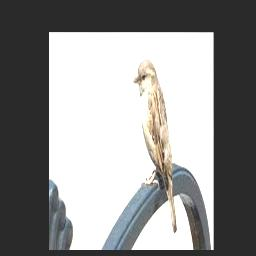Sparrow: (134, 59, 178, 233)
